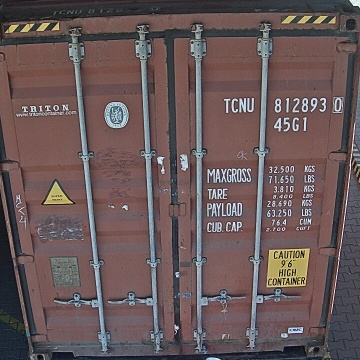serial_id: (224, 96, 343, 113)
